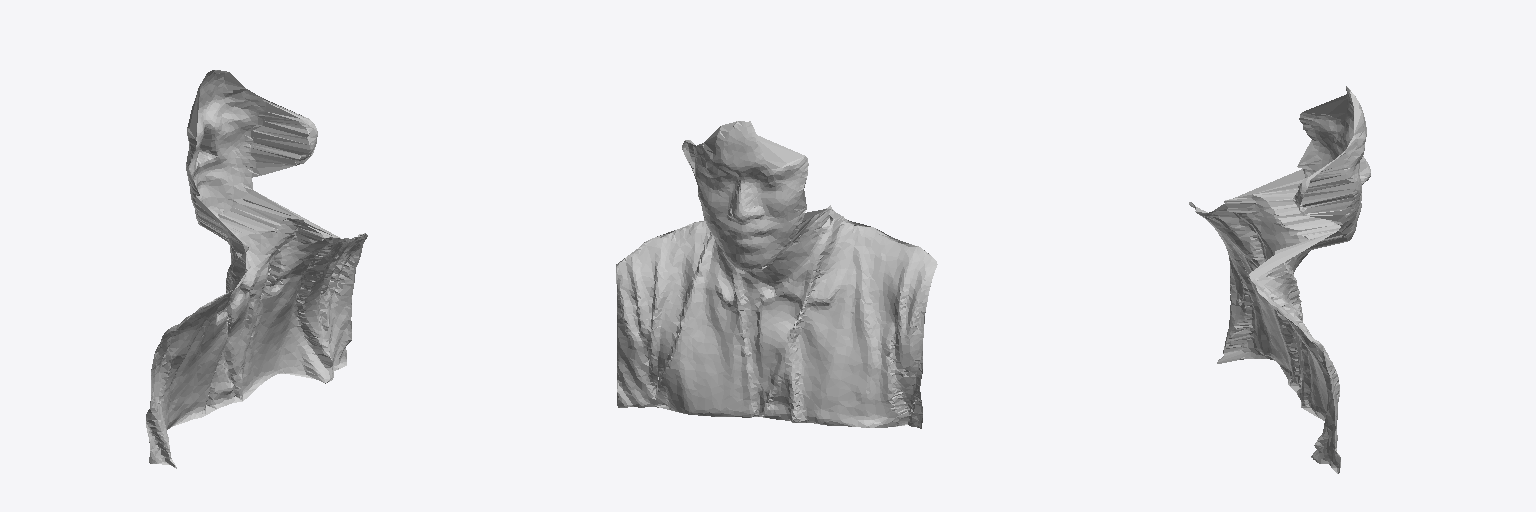
Rendered from imao_face.obj.
3 views of the same model, side by side, from view 1: azimuth 30°, elevation 25°; view 2: azimuth 150°, elevation 25°; view 3: azimuth 270°, elevation 25° (orthographic).
Size of the model in its own units: 38.95 by 46.04 by 23.48.